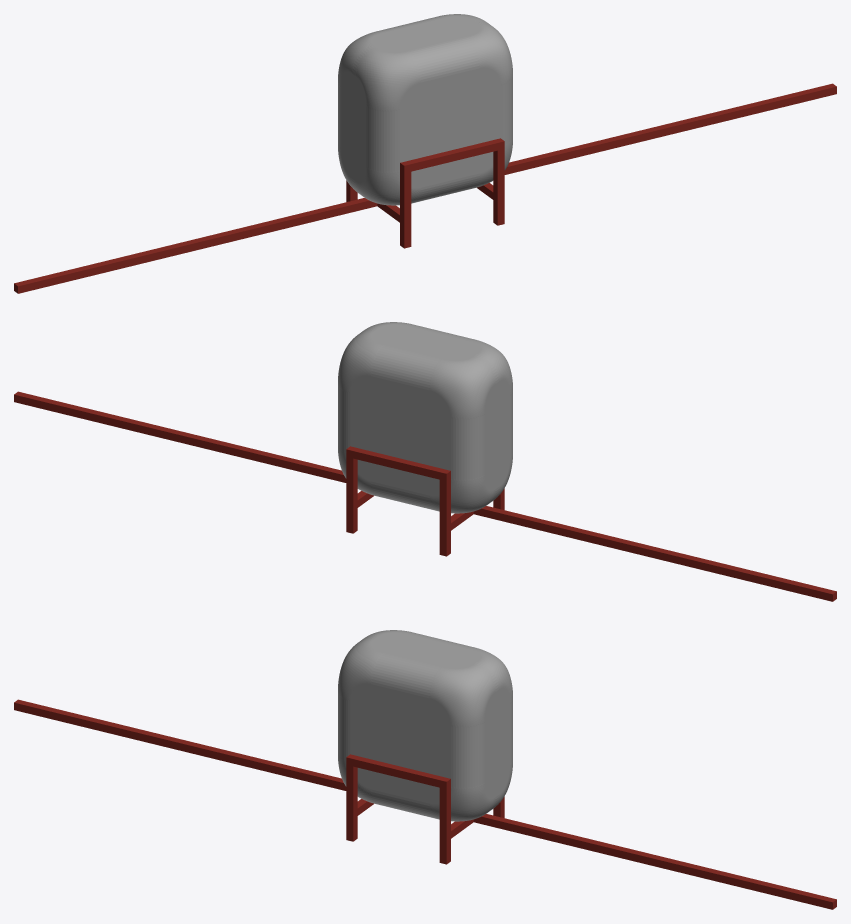
File: tool.dae
3 views of the same model, one above another, from view 1: azimuth 30°, elevation 25°; view 2: azimuth 150°, elevation 25°; view 3: azimuth 330°, elevation 25° (orthographic).
Parts seen in each view (by area): view 1: ToolBox, ToolWings; view 2: ToolBox, ToolWings; view 3: ToolBox, ToolWings.
Part boxes in pixels (x1=…): ToolBox: x1=338, y1=14, x2=512, y2=205; ToolWings: x1=14, y1=83, x2=836, y2=293; ToolBox: x1=338, y1=322, x2=512, y2=513; ToolWings: x1=14, y1=391, x2=836, y2=601; ToolBox: x1=338, y1=630, x2=512, y2=821; ToolWings: x1=14, y1=699, x2=836, y2=909.
Size of the model in its own units: 5.7 by 0.7 by 1.2.
